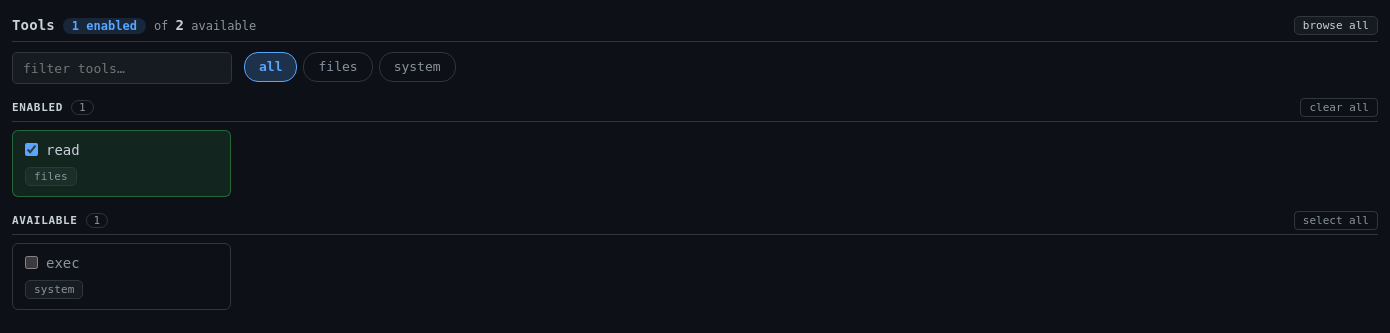
Test: AgentToolGrantsPicker › toggling a tool reveals the apply bar, disabled until reason is long enough
The width and height of the screenshot is (1390, 333).
Step 1. Click the checkbox labelled "exec system" → [32, 263], box x1=25 y1=256 x2=38 y2=269
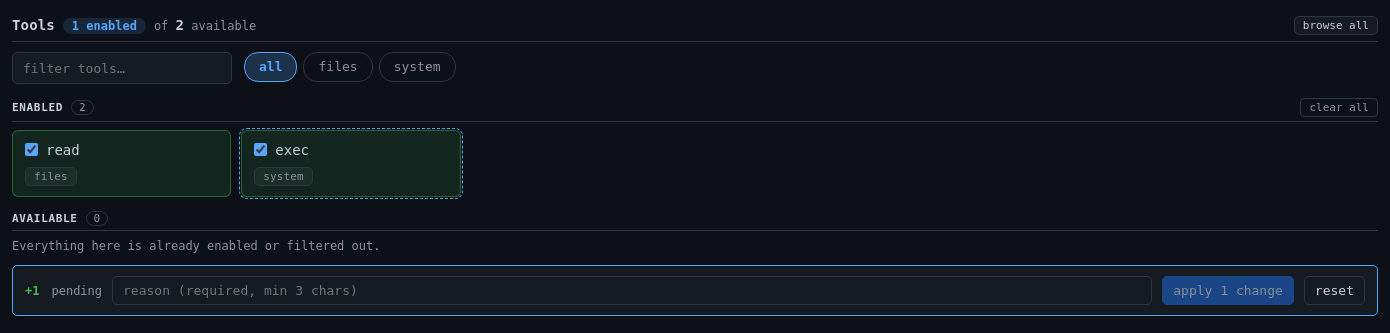
Check: the button "apply 1 change" is disabled, box x1=1162 y1=276 x2=1294 y2=305
Step 2. Type "ok!" into the field with placeholder "reason (required, min 3 chars)" → [632, 291], box x1=112 y1=276 x2=1152 y2=305
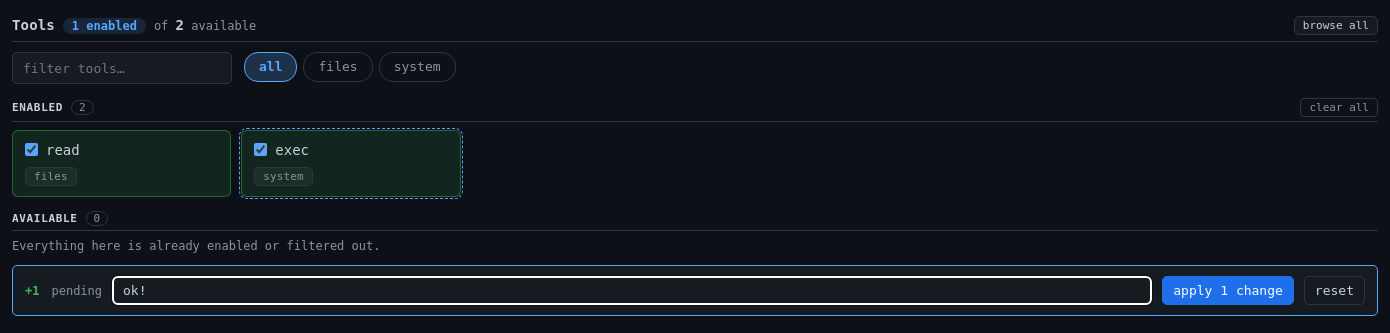
Check: the button "apply 1 change" is enabled, box x1=1162 y1=276 x2=1294 y2=305
